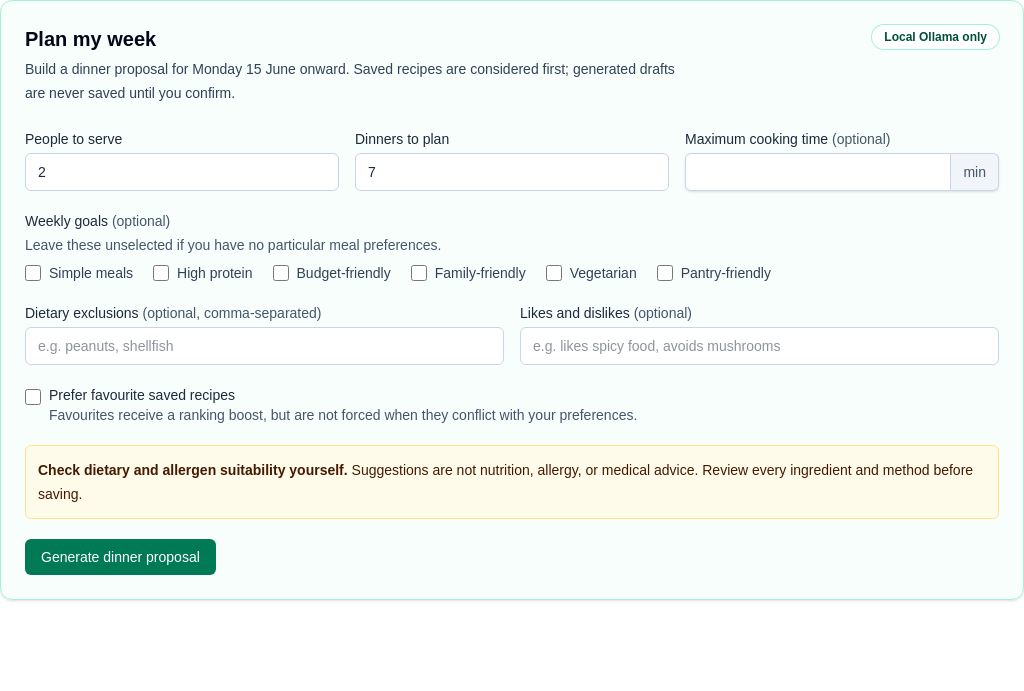
Test: WeeklyPlanGenerator › allows generating a proposal with no weekly goals selected
Step 1. Click the button "Generate dinner proposal" → {"x": 120, "y": 557}, box [25,539,216,575]
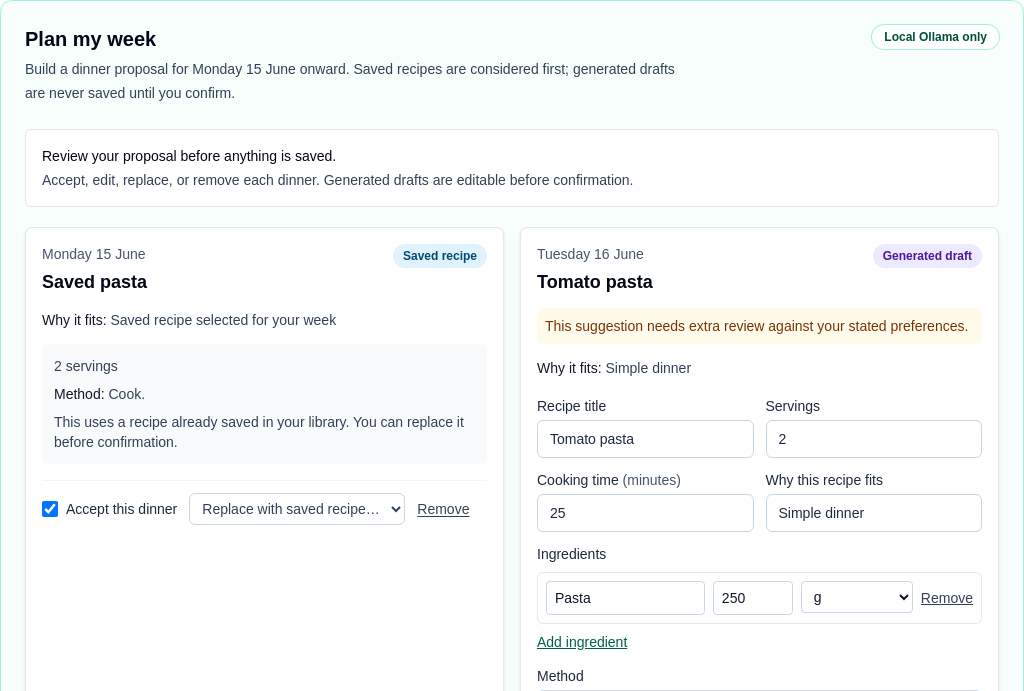
Result: the text "Review your proposal before anything is saved." is shown at [42,148,336,164]
